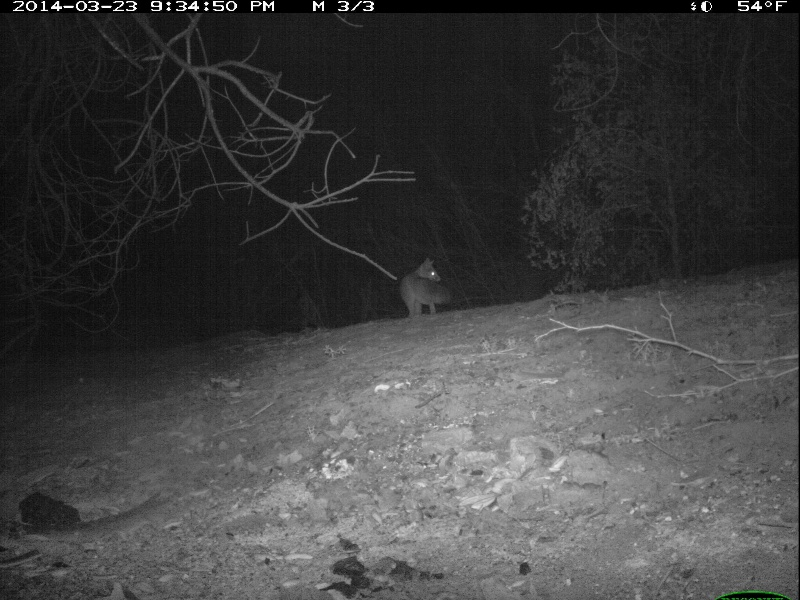fox: (397, 255, 450, 318)
